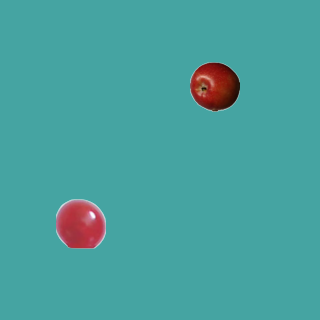Apple Braeburn: (189, 61, 239, 111)
Redcurrant: (55, 198, 105, 248)
